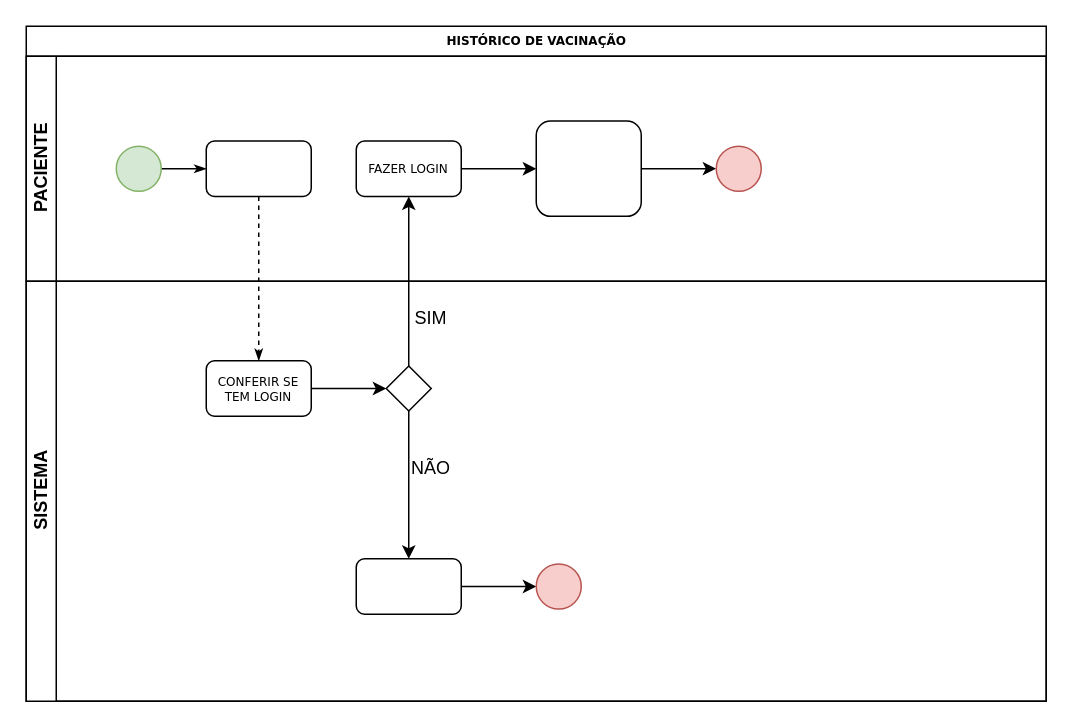
This 1073x728 diagram has some shape labels left out. Here are the shapes that lost their labels. From the top down, the centre of each, then its label:
At (x=258, y=168): "CONSULTAR HISTÓRICO DE VACINAÇÃO".
At (x=588, y=168): "CONFERIR HISTÓRICO DE VACINA E VIZUALIZA VACINAS NECESSÁRIAS".
At (x=408, y=585): "PEDIR CADASTRO DO PACIENTE".
